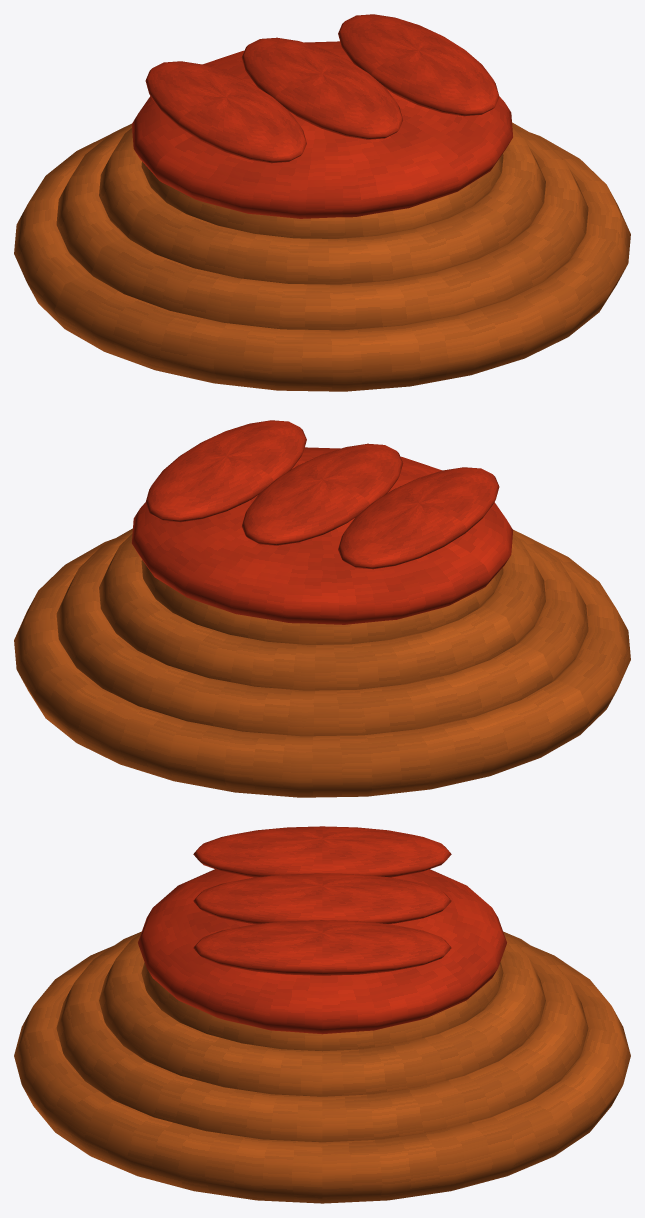
Rendered from bread_apple_danish.glb.
3 views of the same model, one above another, from view 1: azimuth 30°, elevation 25°; view 2: azimuth 150°, elevation 25°; view 3: azimuth 270°, elevation 25° (orthographic).
Visible parts, largest first — view 1: パイ生地の渦巻き.004, パイ生地の渦巻き.005, フィリング.001, パイ生地の渦巻き.006, 薄切りりんご, 薄切りりんご.001, 薄切りりんご.002, パイ生地の渦巻き.007; view 2: パイ生地の渦巻き.004, パイ生地の渦巻き.005, フィリング.001, パイ生地の渦巻き.006, 薄切りりんご, 薄切りりんご.001, 薄切りりんご.002, パイ生地の渦巻き.007; view 3: パイ生地の渦巻き.004, パイ生地の渦巻き.005, フィリング.001, パイ生地の渦巻き.006, 薄切りりんご.002, 薄切りりんご, 薄切りりんご.001, パイ生地の渦巻き.007.
Part boxes in pixels (<box>): パイ生地の渦巻き.004: <box>14,132,630,391</box>; パイ生地の渦巻き.005: <box>56,122,588,330</box>; フィリング.001: <box>131,41,512,218</box>; パイ生地の渦巻き.006: <box>99,127,545,284</box>; 薄切りりんご: <box>145,61,306,163</box>; 薄切りりんご.001: <box>241,37,402,139</box>; 薄切りりんご.002: <box>338,14,499,116</box>; パイ生地の渦巻き.007: <box>141,154,503,238</box>; パイ生地の渦巻き.004: <box>14,538,630,797</box>; パイ生地の渦巻き.005: <box>56,528,588,736</box>; フィリング.001: <box>132,447,513,624</box>; パイ生地の渦巻き.006: <box>99,533,545,690</box>; 薄切りりんご: <box>338,467,499,569</box>; 薄切りりんご.001: <box>242,443,403,545</box>; 薄切りりんご.002: <box>145,420,306,522</box>; パイ生地の渦巻き.007: <box>141,560,503,644</box>; パイ生地の渦巻き.004: <box>14,946,630,1203</box>; パイ生地の渦巻き.005: <box>56,931,588,1142</box>; フィリング.001: <box>138,869,506,1034</box>; パイ生地の渦巻き.006: <box>99,933,545,1096</box>; 薄切りりんご.002: <box>193,920,451,975</box>; 薄切りりんご: <box>193,826,451,877</box>; 薄切りりんご.001: <box>193,873,451,923</box>; パイ生地の渦巻き.007: <box>141,962,503,1051</box>.
Size of the model in its own units: 0.668 by 0.2361 by 0.668.
Materials: 2 (2 with a texture image).
